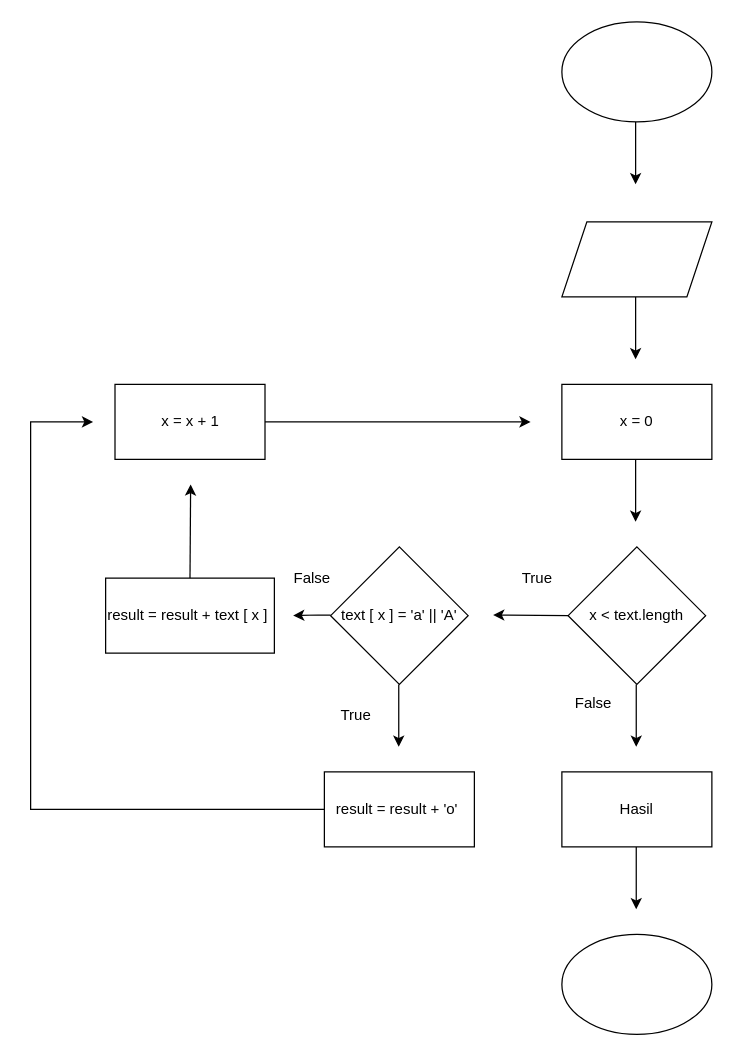
Some shapes in this 734 by 1056 pixel diagram are drawn without their labels. The centre of each missing label's shape, as x and y in pixels:
Finish: point 636,983
Input text: point 636,259
Start: point 636,71
